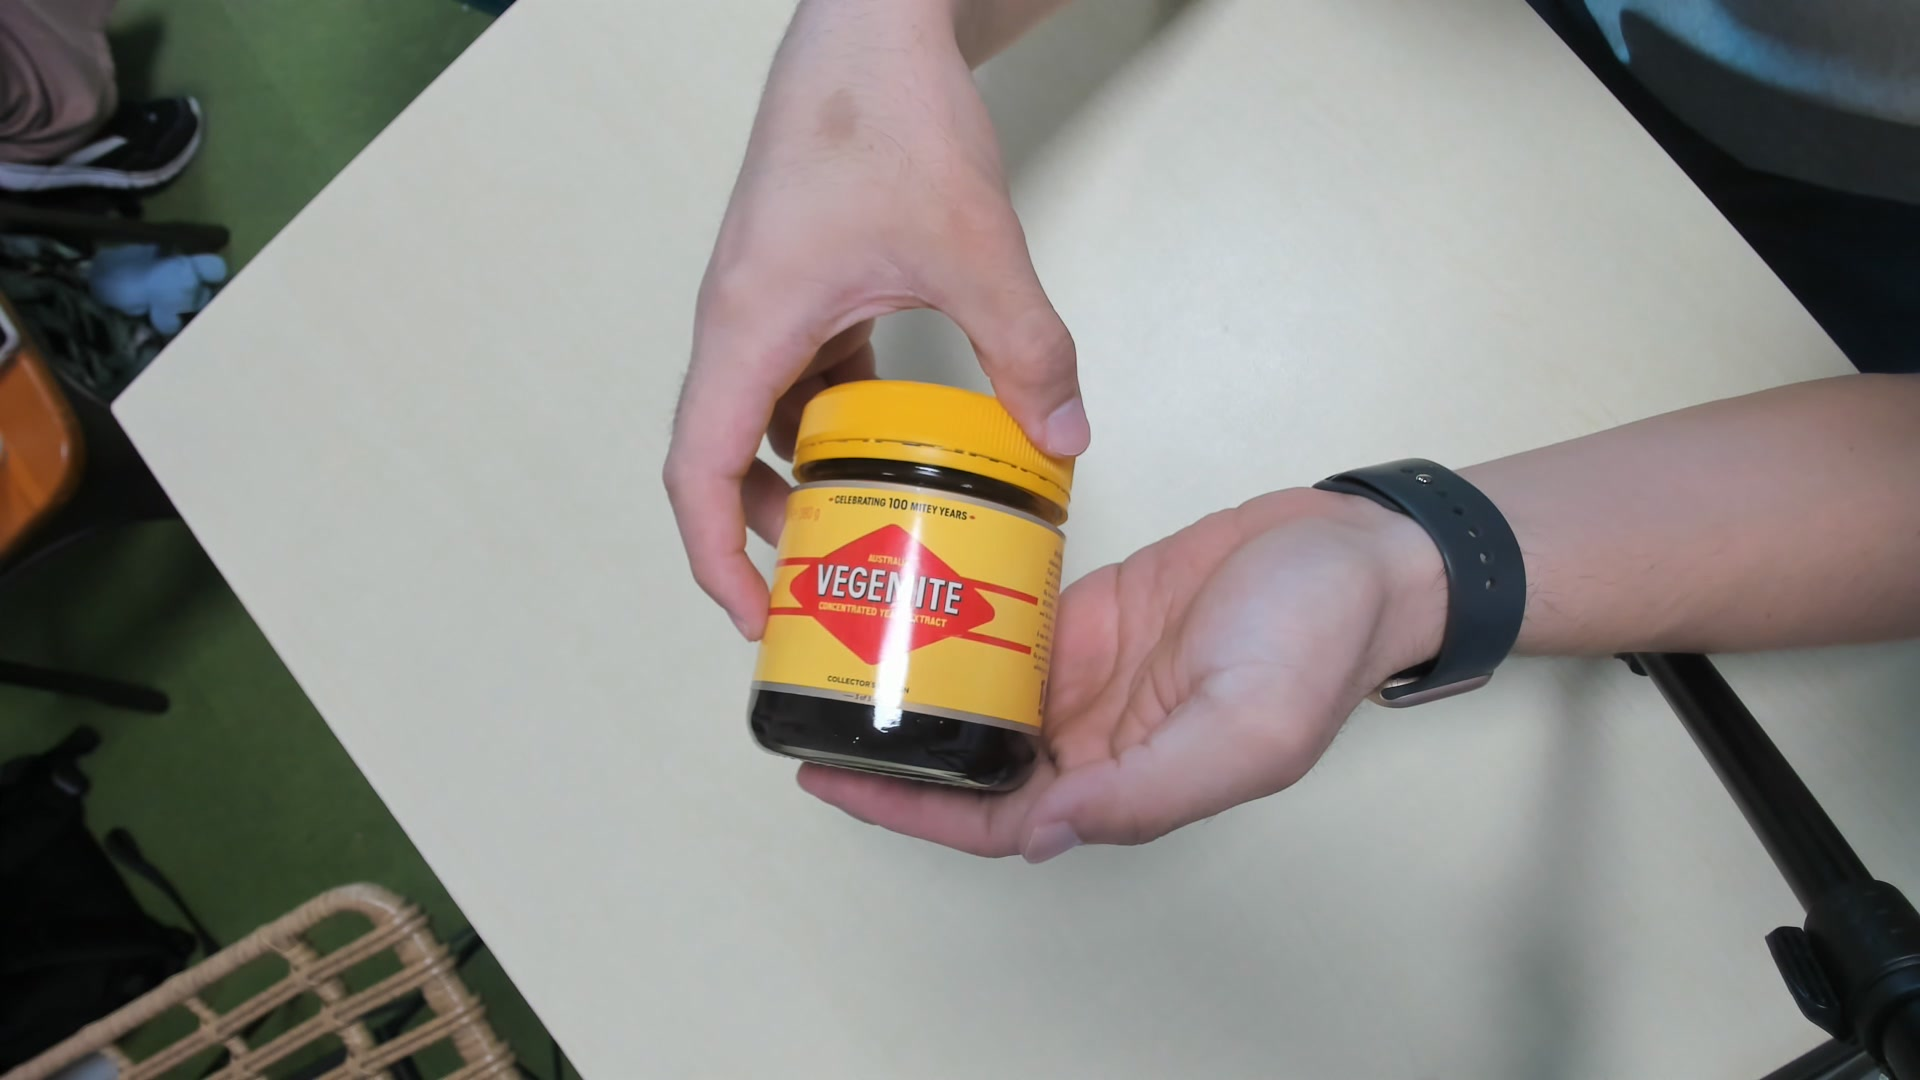OtherSauceDressing_300-399g_Halal_NonHealthy: (746, 380, 1083, 787)
